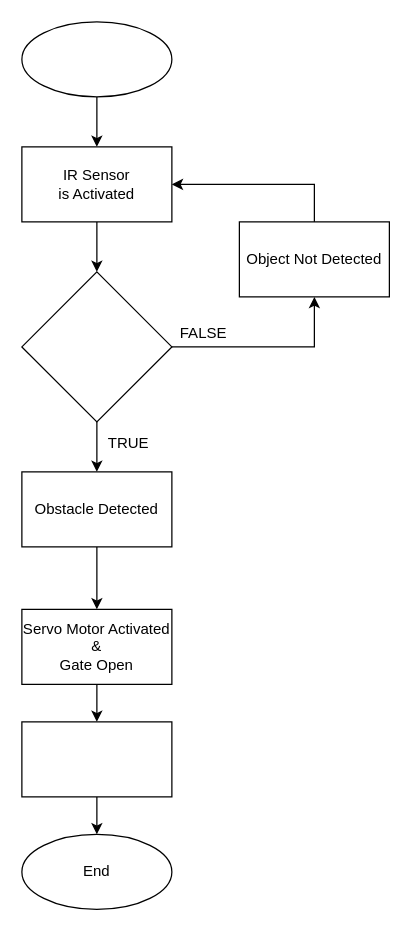
Image size: 411x931. Some labels were removed from this diagram. Here are the shapes that lost their labels. From the top down, the centre of each, then its label:
At (96,59): "Start".
At (96,346): "IF SENSOR=HIGH".
At (96,759): "LCD Screen is Displayed".
